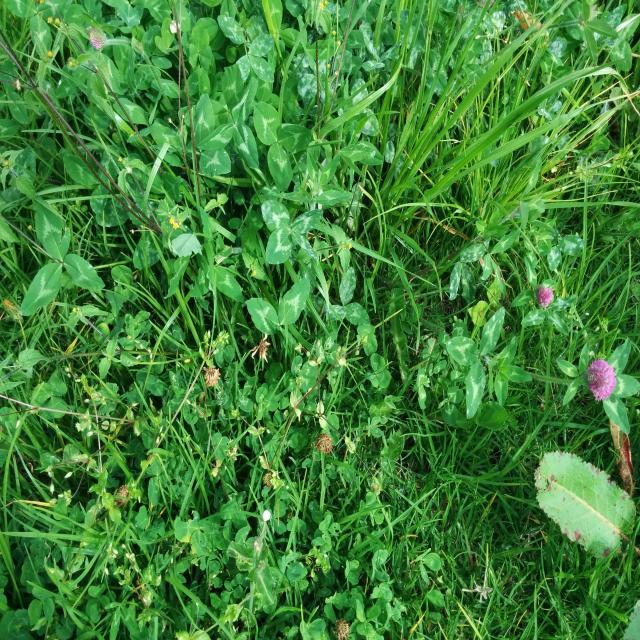Four Leaf Clover: (261, 202, 323, 264)
